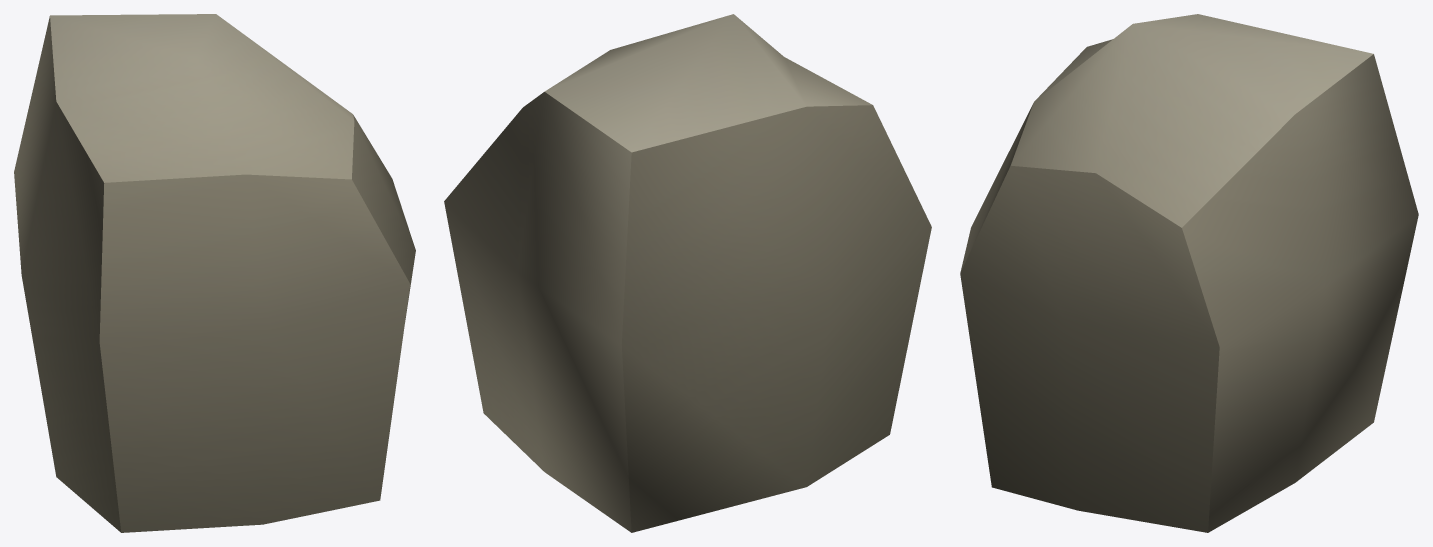
File: mine_stone_03.fbx
3 views of the same model, side by side, from view 1: azimuth 30°, elevation 25°; view 2: azimuth 150°, elevation 25°; view 3: azimuth 270°, elevation 25° (orthographic). The views are drawn at different scales.
Parts seen in each view (by area): view 1: mine_stone_03; view 2: mine_stone_03; view 3: mine_stone_03.
Part boxes in pixels (x1,y1,x2,y2): mine_stone_03: (14, 14, 415, 532); mine_stone_03: (444, 14, 931, 532); mine_stone_03: (960, 14, 1418, 532).
Bounding box in the file's own units: 276 × 284 × 288.
